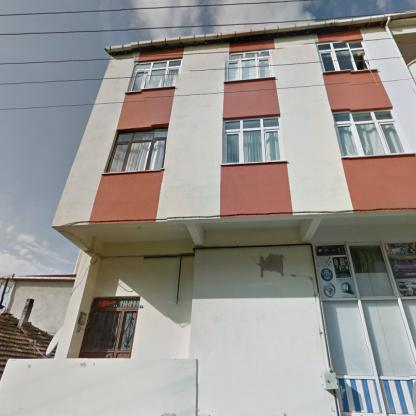door: (80, 310, 136, 358)
window: (322, 297, 415, 375), (332, 110, 405, 155), (222, 117, 282, 164), (106, 128, 168, 172), (348, 244, 397, 297), (318, 40, 372, 71), (129, 59, 181, 91), (227, 50, 271, 80), (94, 299, 140, 307)
